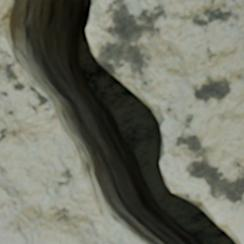crack: (0, 0, 241, 243)
